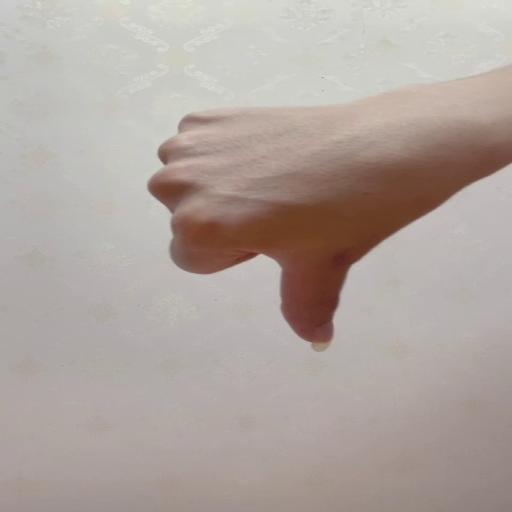thumbs_down: (149, 107, 444, 352)
